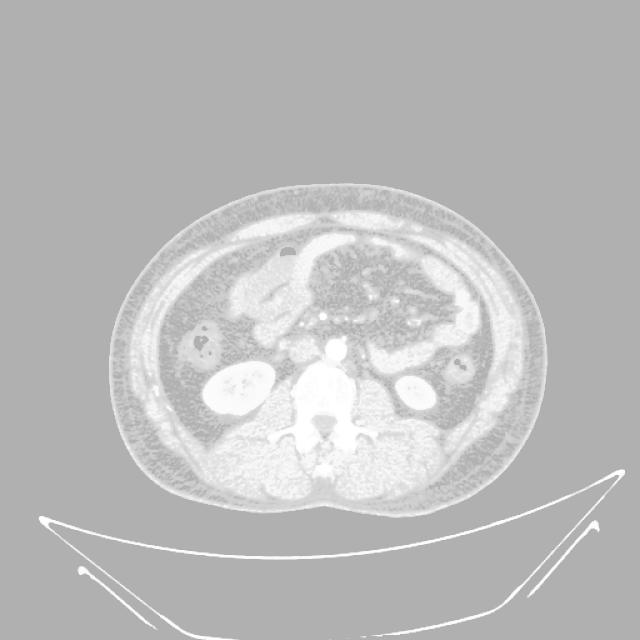NORMAL: (106, 179, 537, 497)
